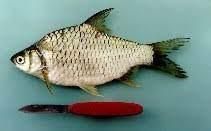Silver Barb: (9, 8, 195, 98)
